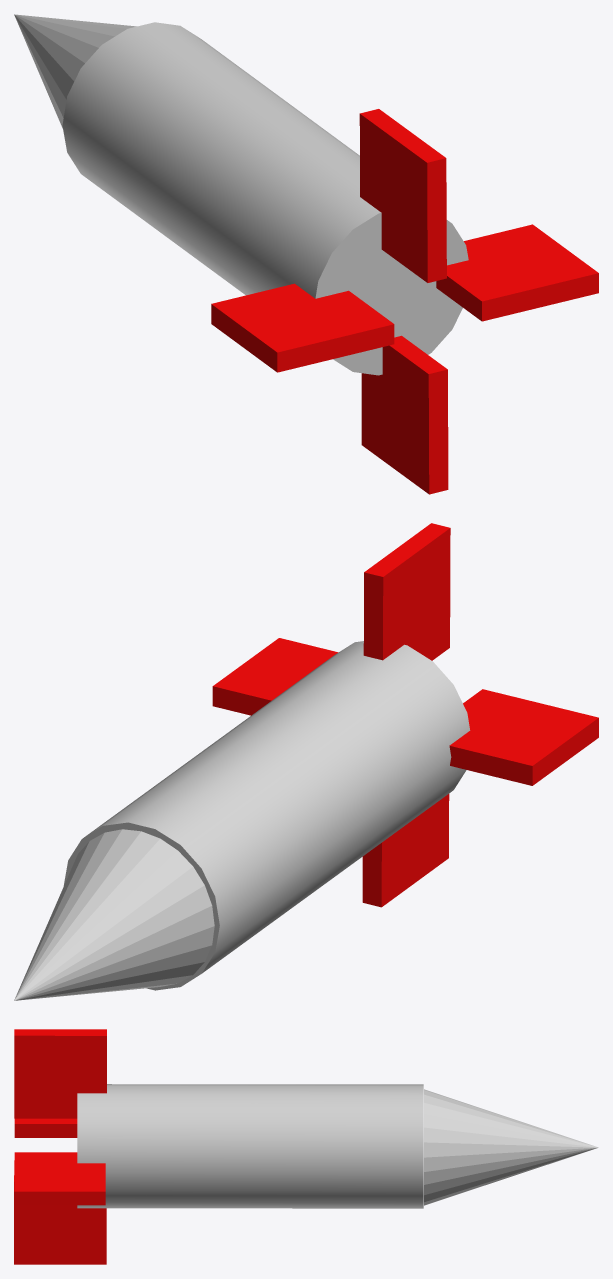
File: missle.fbx
3 views of the same model, one above another, from view 1: azimuth 30°, elevation 25°; view 2: azimuth 150°, elevation 25°; view 3: azimuth 270°, elevation 25° (orthographic). The views are drawn at different scales.
Visible parts, largest first — view 1: Cylinder01, Box02, Box01, Box04, Box03, Cone01; view 2: Cylinder01, Cone01, Box02, Box01, Box04, Box03; view 3: Cylinder01, Cone01, Box02, Box04, Box03, Box01.
Boxes of the visible parts, x1,y1,x2,y2 form: Cylinder01: (62, 22, 468, 375); Box02: (359, 109, 446, 282); Box01: (211, 283, 394, 372); Box04: (361, 335, 448, 494); Box03: (436, 224, 598, 321); Cone01: (14, 14, 136, 128); Cylinder01: (63, 641, 470, 990); Cone01: (14, 829, 214, 1000); Box02: (363, 523, 450, 660); Box01: (449, 689, 598, 785); Box04: (362, 794, 449, 907); Box03: (212, 638, 338, 715); Cylinder01: (77, 1084, 423, 1208); Cone01: (424, 1089, 598, 1205); Box02: (14, 1029, 106, 1118); Box04: (14, 1175, 106, 1264); Box03: (14, 1152, 105, 1205); Box01: (14, 1118, 77, 1137).
Size of the model in its own units: 236 by 233 by 541.
